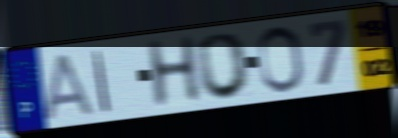7: (307, 16, 349, 90)
A: (42, 51, 97, 122)
H: (143, 33, 205, 112)
I: (91, 48, 112, 114)
O: (195, 30, 253, 102), (256, 24, 307, 95)
